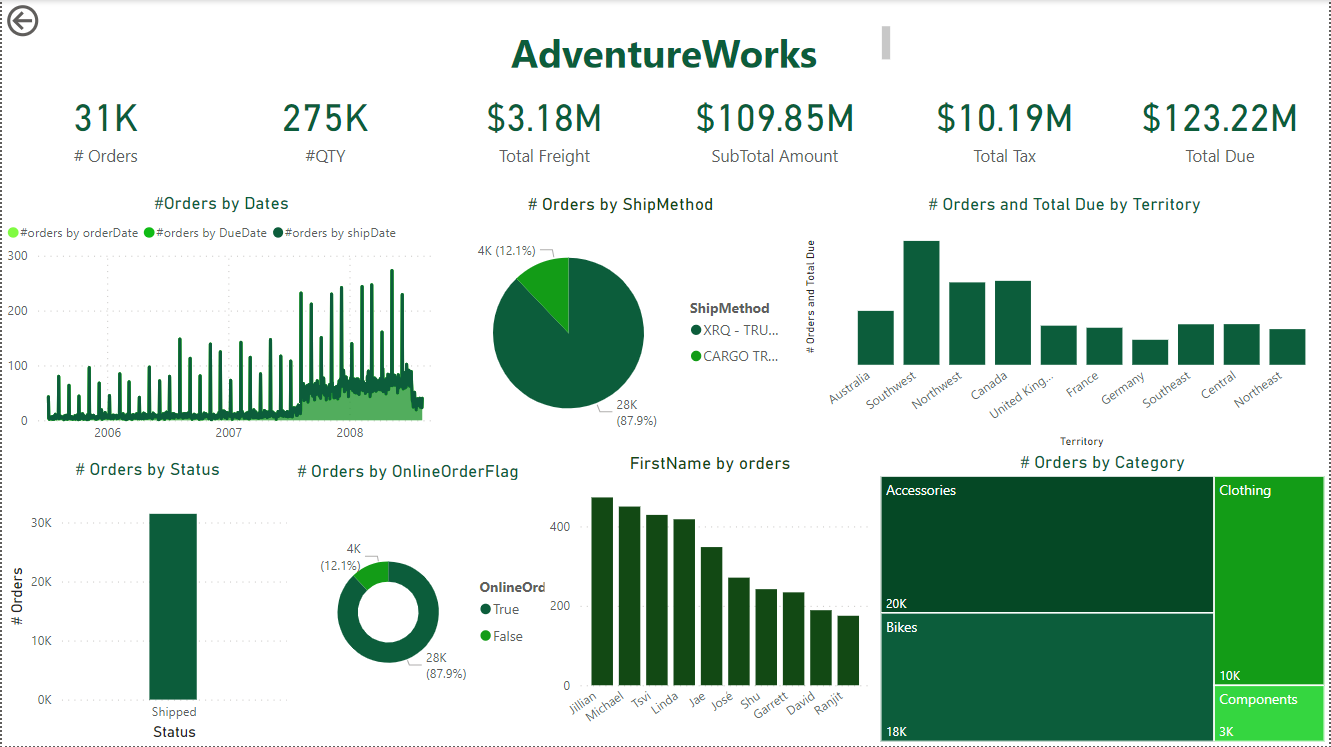

The dashboard page shown, as its layout file describes it:
{"tool":"powerbi","page":{"name":"project3","canvas":[1280,720],"ordinal":0},"visuals":[{"type":"card","fields":{"Values":["Mesures.# Orders"]},"box":[0,61.7,200.3,119.4],"z":0},{"type":"card","fields":{"Values":["Mesures.Total Freight"]},"box":[423.4,61.7,200.3,119.4],"z":1000},{"type":"card","fields":{"Values":["Mesures.#QTY"]},"box":[204.8,61.7,214.1,119.4],"z":2000},{"type":"card","fields":{"Values":["Mesures.Total Tax"]},"box":[867,61.4,200,120],"z":3000},{"type":"card","fields":{"Values":["Mesures.SubTotal Amount"]},"box":[628.2,61.4,234.3,120],"z":4000},{"type":"card","fields":{"Values":["Mesures.Total Due"]},"box":[1071.4,61.4,208.6,120],"z":5000},{"type":"areaChart","title":"#Orders by Dates","fields":{"Category":["OrderDetails.OrderDate","OrderDetails.DueDate","OrderDetails.ShipDate"],"Y":["Mesures.#orders by orderDate","Mesures.#orders by DueDate","Mesures.#orders by shipDate"]},"box":[0,186.2,423.8,250],"z":6000},{"type":"columnChart","fields":{"Category":["statuses.Status"],"Y":["Mesures.# Orders"]},"box":[1.2,442.6,278.6,276.2],"z":7000},{"type":"treemap","fields":{"Values":["Mesures.# Orders"],"Group":["Products.Category","Products.SubCategory","Products.Product"]},"box":[843,435.4,437.8,284.6],"z":8000},{"type":"columnChart","fields":{"Category":["Territories.Territory"],"Y":["Mesures.# Orders","Mesures.Total Due"]},"box":[768.9,186.8,511.7,250.1],"z":9000},{"type":"actionButton","box":[0,0,100,40],"z":10000},{"type":"textbox","box":[423.8,20,438.8,50],"z":11000},{"type":"pieChart","fields":{"Category":["ShipMethod.ShipMethod"],"Y":["Mesures.# Orders"]},"box":[424,186.8,344.9,250.1],"z":12000},{"type":"donutChart","fields":{"Category":["OrderDetails.OnlineOrderFlag"],"Y":["Mesures.# Orders"]},"box":[279.8,443.8,279.8,275],"z":13000},{"type":"clusteredColumnChart","title":"FirstName by orders","fields":{"Category":["SalesPerson.FirstName"],"Y":["Mesures.# Orders"]},"box":[522.8,436.4,319.7,282.7],"z":13001}]}

Visuals, with their boxes in screenshot pixels (x1, y1, x2, y2), scaled from the page's 1280x720 canvas onto the 1331x747 screenshot:
card - Mesures.# Orders: Rect(0, 64, 208, 188)
card - Mesures.Total Freight: Rect(440, 64, 649, 188)
card - Mesures.#QTY: Rect(213, 64, 436, 188)
card - Mesures.Total Tax: Rect(902, 64, 1110, 188)
card - Mesures.SubTotal Amount: Rect(653, 64, 897, 188)
card - Mesures.Total Due: Rect(1114, 64, 1330, 188)
"#Orders by Dates" areaChart: Rect(0, 193, 441, 453)
columnChart - statuses.Status x Mesures.# Orders: Rect(1, 459, 291, 746)
treemap - Mesures.# Orders x Products.Category: Rect(877, 452, 1330, 746)
columnChart - Territories.Territory x Mesures.# Orders: Rect(800, 194, 1330, 453)
actionButton: Rect(0, 0, 104, 42)
textbox: Rect(441, 21, 897, 73)
pieChart - ShipMethod.ShipMethod x Mesures.# Orders: Rect(441, 194, 800, 453)
donutChart - OrderDetails.OnlineOrderFlag x Mesures.# Orders: Rect(291, 460, 582, 746)
"FirstName by orders" clusteredColumnChart: Rect(544, 453, 876, 746)
